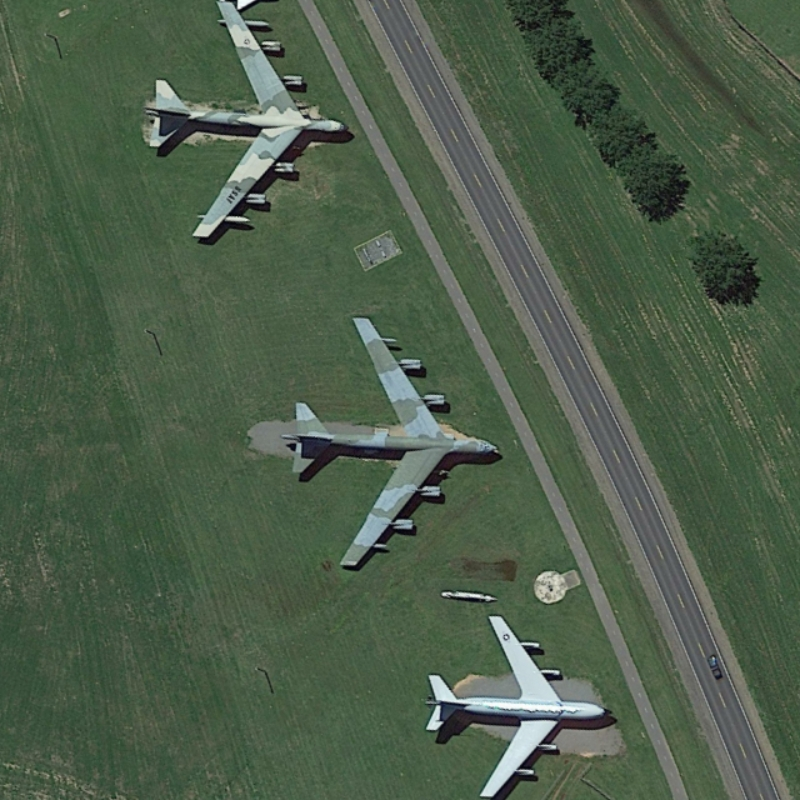A11: (418, 610, 614, 800)
A8: (275, 311, 510, 578), (142, 3, 356, 248)
